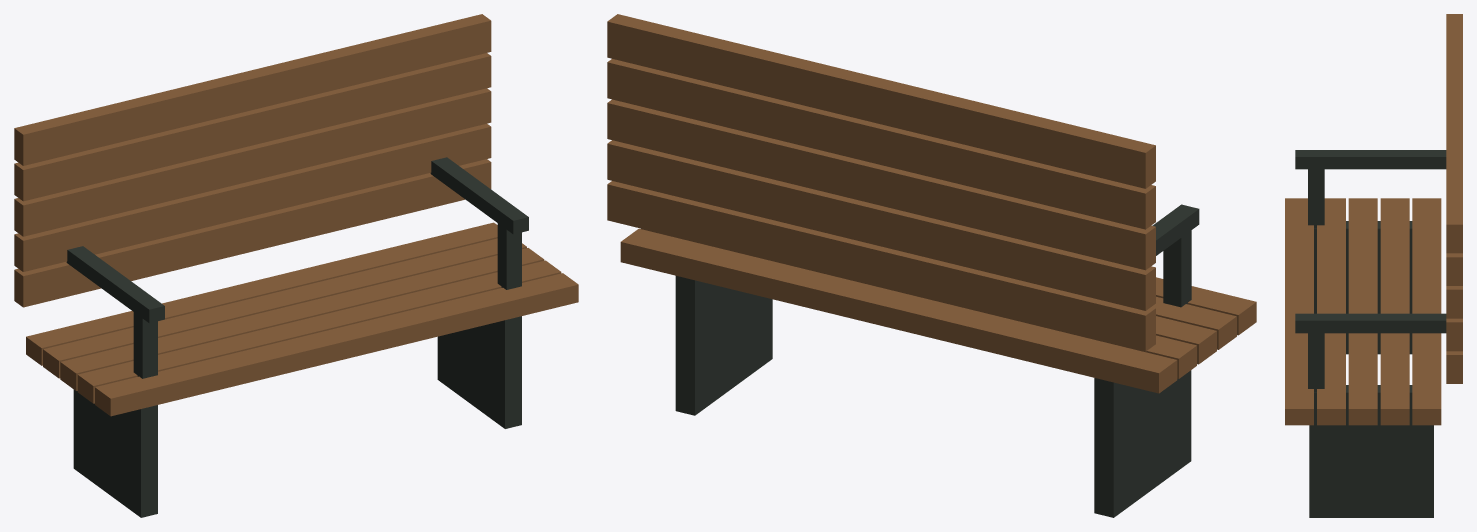
The picture shows the model from 3 angles, left to right: view 1: azimuth 30°, elevation 25°; view 2: azimuth 150°, elevation 25°; view 3: azimuth 270°, elevation 25°; orthographic projection. The views are drawn at different scales.
Visible parts, largest first — view 1: 공원 벤치; view 2: 공원 벤치; view 3: 공원 벤치.
Boxes of the visible parts, x1,y1,x2,y2 form: 공원 벤치: (14,14,578,517); 공원 벤치: (607,14,1256,517); 공원 벤치: (1285,14,1462,517).
Size of the model in its own units: 1.8 by 1.25 by 0.6425.
